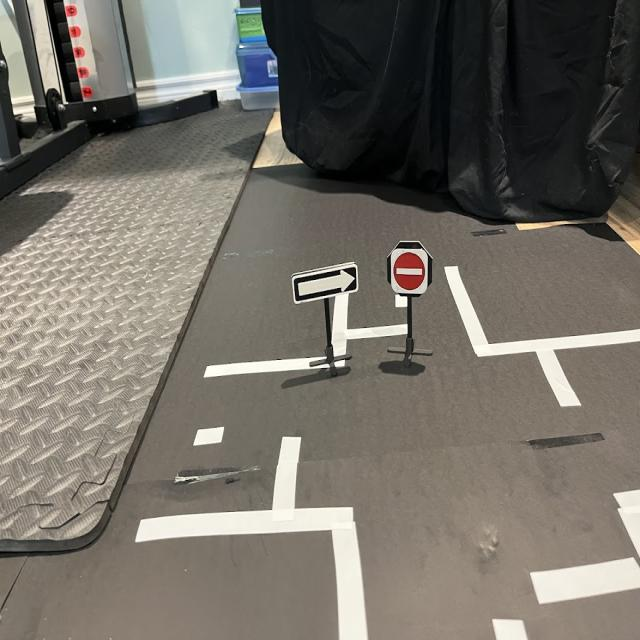sign_noentry: (390, 249, 431, 296)
sign_oneway_right: (290, 262, 360, 305)
